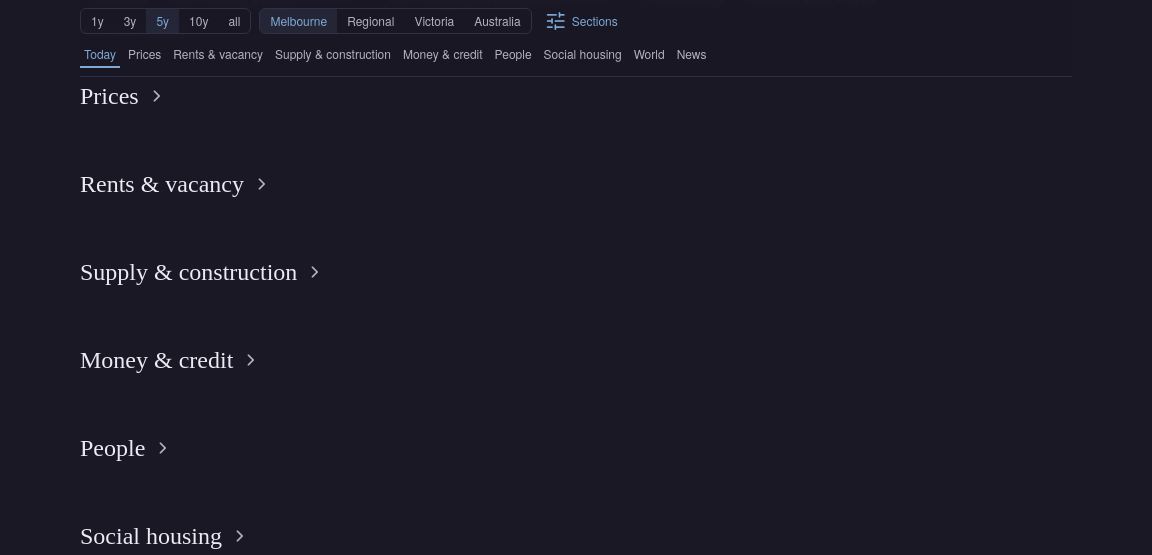
Test: modal geography chip › every modal names its geography: fixed:australia chart under melbourne shows Australia
(page scrolled)
Step 1. Click the 2nd button "Money & credit" → (172, 360), box x1=80 y1=344 x2=263 y2=376
(page scrolled)
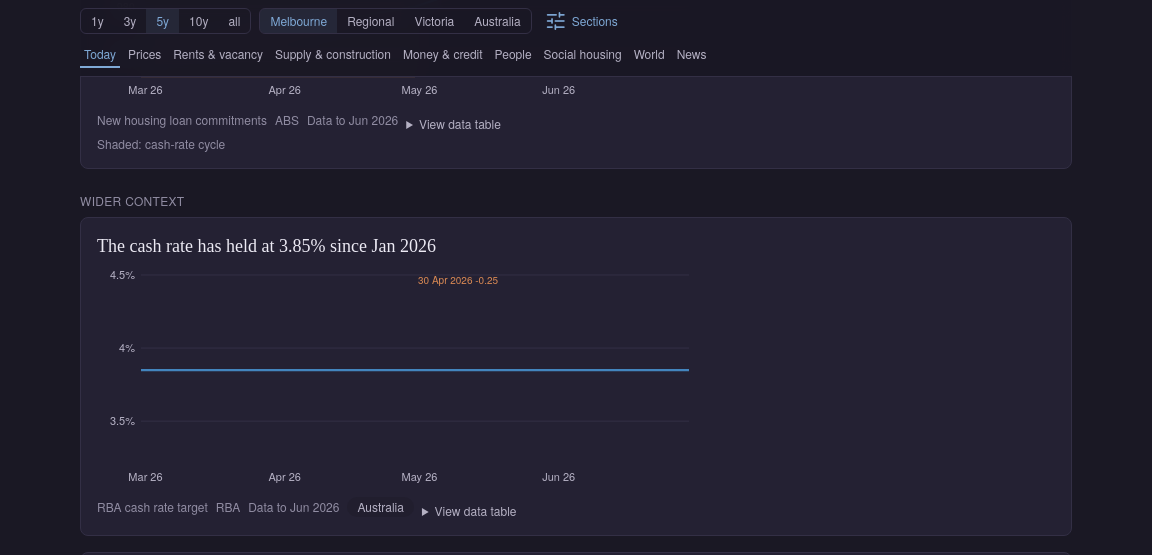
Step 2. Click the button with aria-label "RBA cash rate target — open details" → (998, 360), box x1=97 y1=234 x2=1055 y2=487
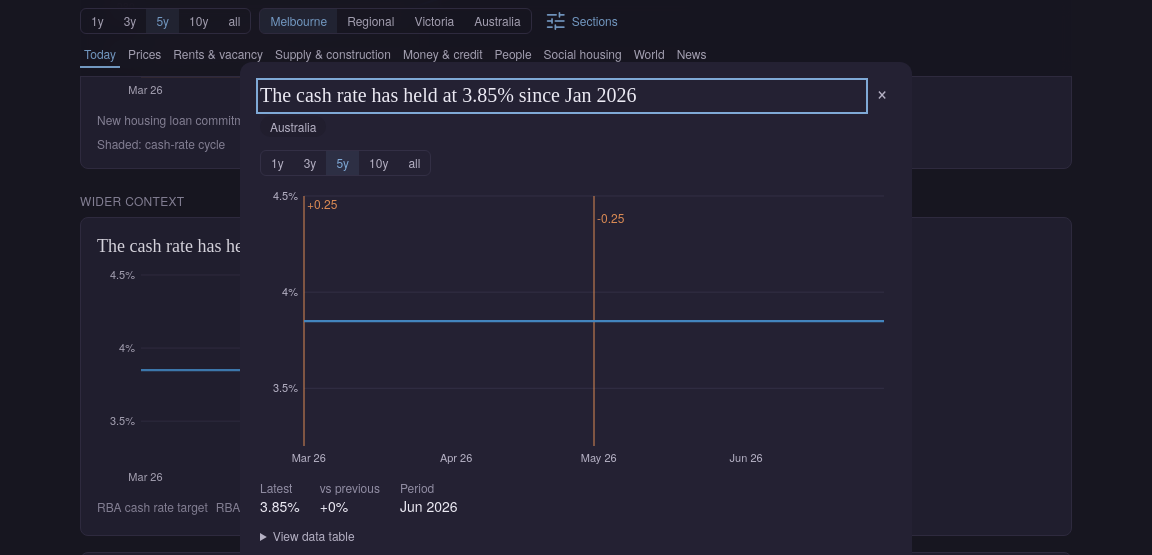
Check: the text "Australia" is shown, box x1=260 y1=116 x2=326 y2=137
